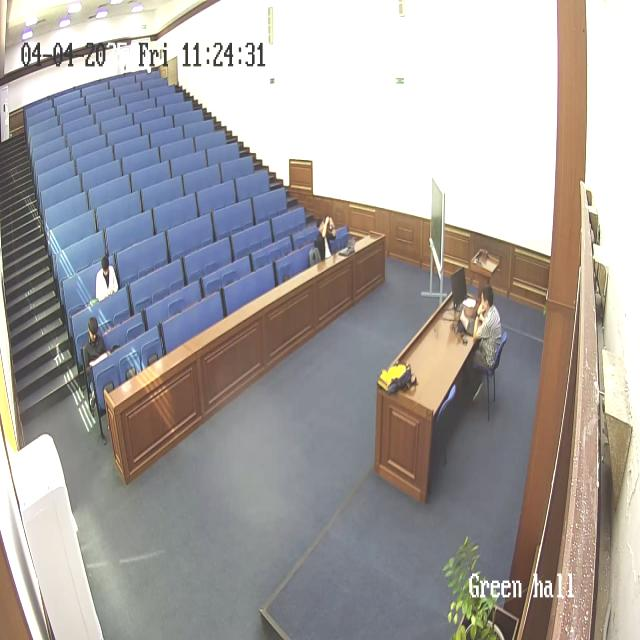person: (467, 286, 503, 395), (82, 316, 110, 408), (314, 213, 338, 260), (95, 255, 118, 301)
